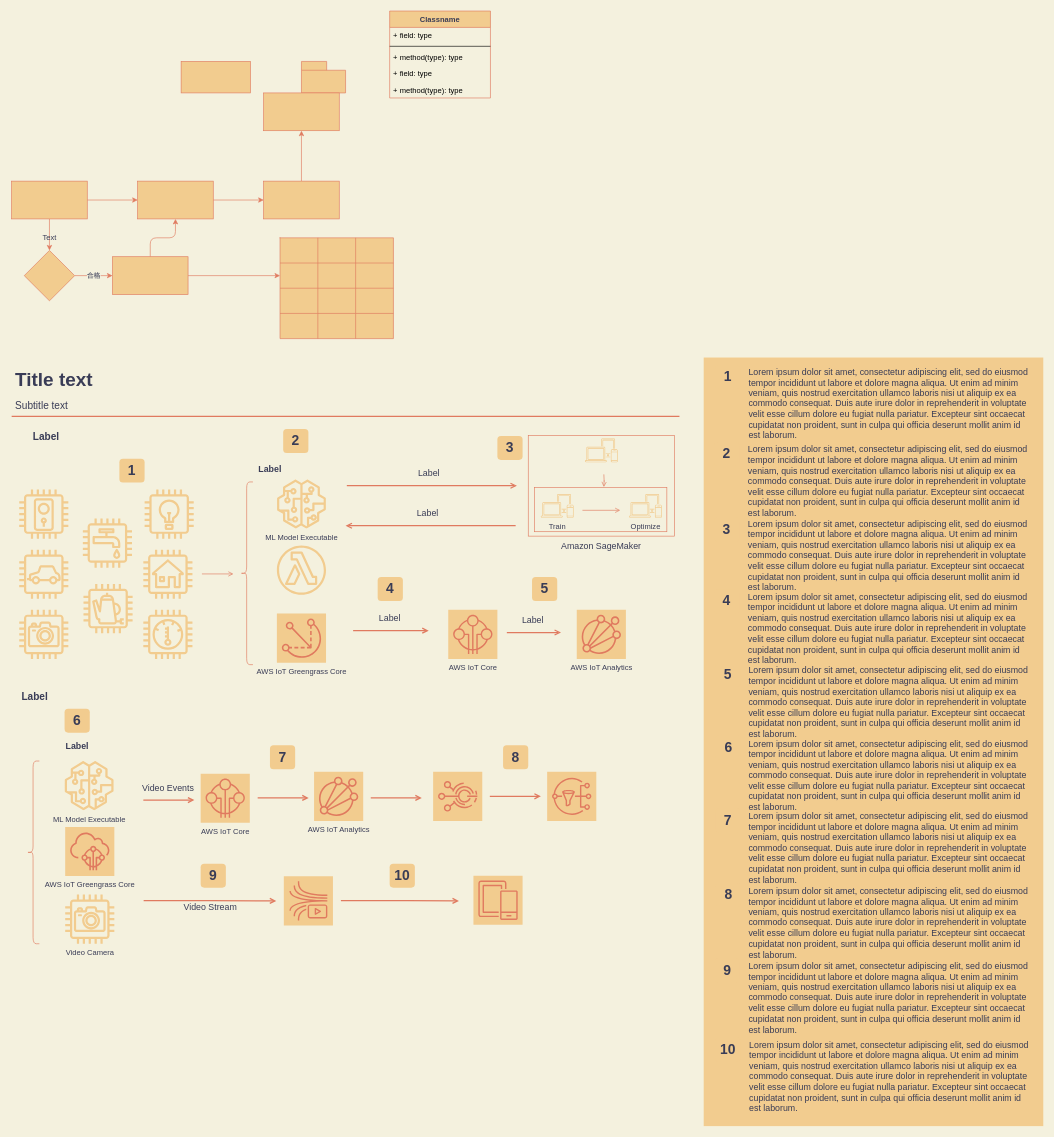
Image size: 1054x1137. Some labels were removed from this diagram. Each missing label, with the centre of its shape:
Amazon Kinesis Video Streams: pixel 308 900
Amazon SNS: pixel 571 796
AWS IoT Events: pixel 457 796
AWS Lambda Function: pixel 301 569
Build: pixel 601 450
Mobile Application: pixel 498 900
Object: pixel 215 77
package: pixel 323 77
